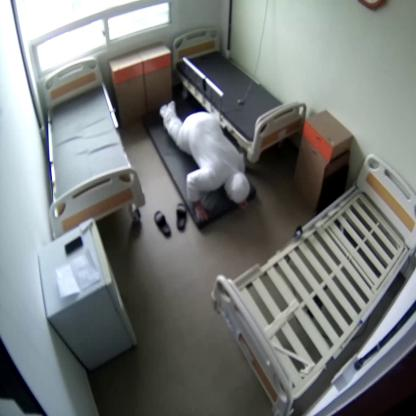Person: (160, 102, 252, 222)
